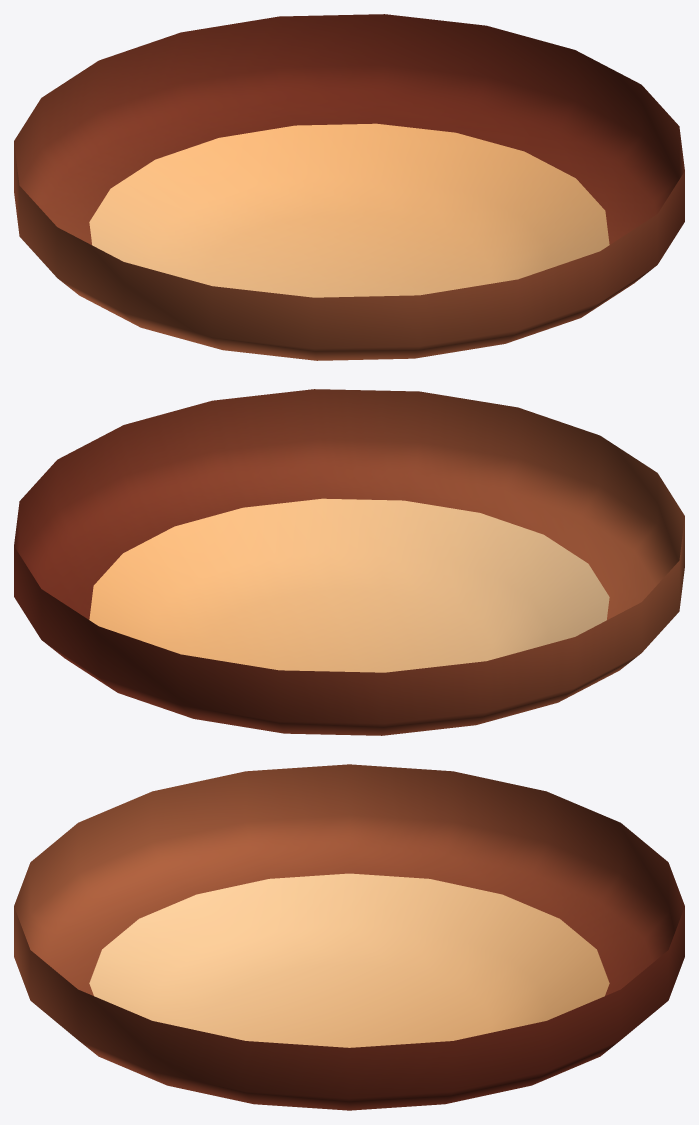
File: light.fbx
The picture shows the model from 3 angles, top to bottom: view 1: azimuth 30°, elevation 25°; view 2: azimuth 150°, elevation 25°; view 3: azimuth 270°, elevation 25°; orthographic projection.
Parts seen in each view (by area): view 1: light; view 2: light; view 3: light.
Part boxes in pixels (x1=…): light: x1=14, y1=14, x2=684, y2=360; light: x1=14, y1=389, x2=684, y2=735; light: x1=14, y1=764, x2=684, y2=1110.
Size of the model in its own units: 52.05 by 10.49 by 52.05.
